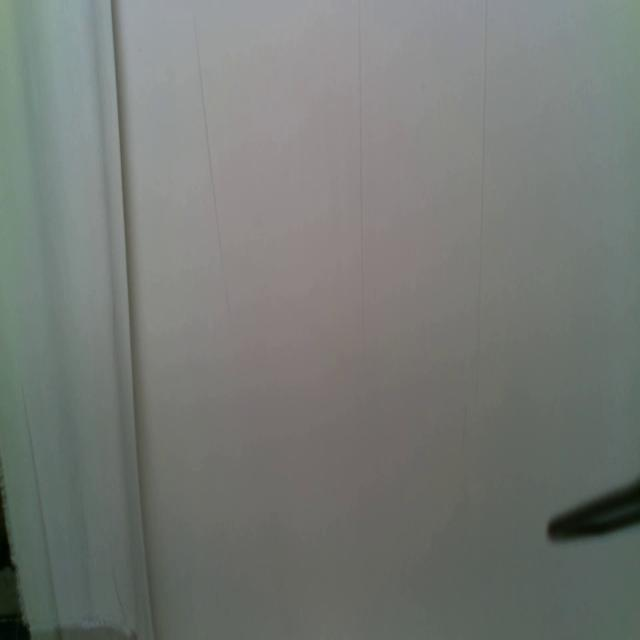crease: (190, 14, 233, 330), (19, 383, 60, 628), (474, 1, 489, 397), (357, 0, 366, 374)
